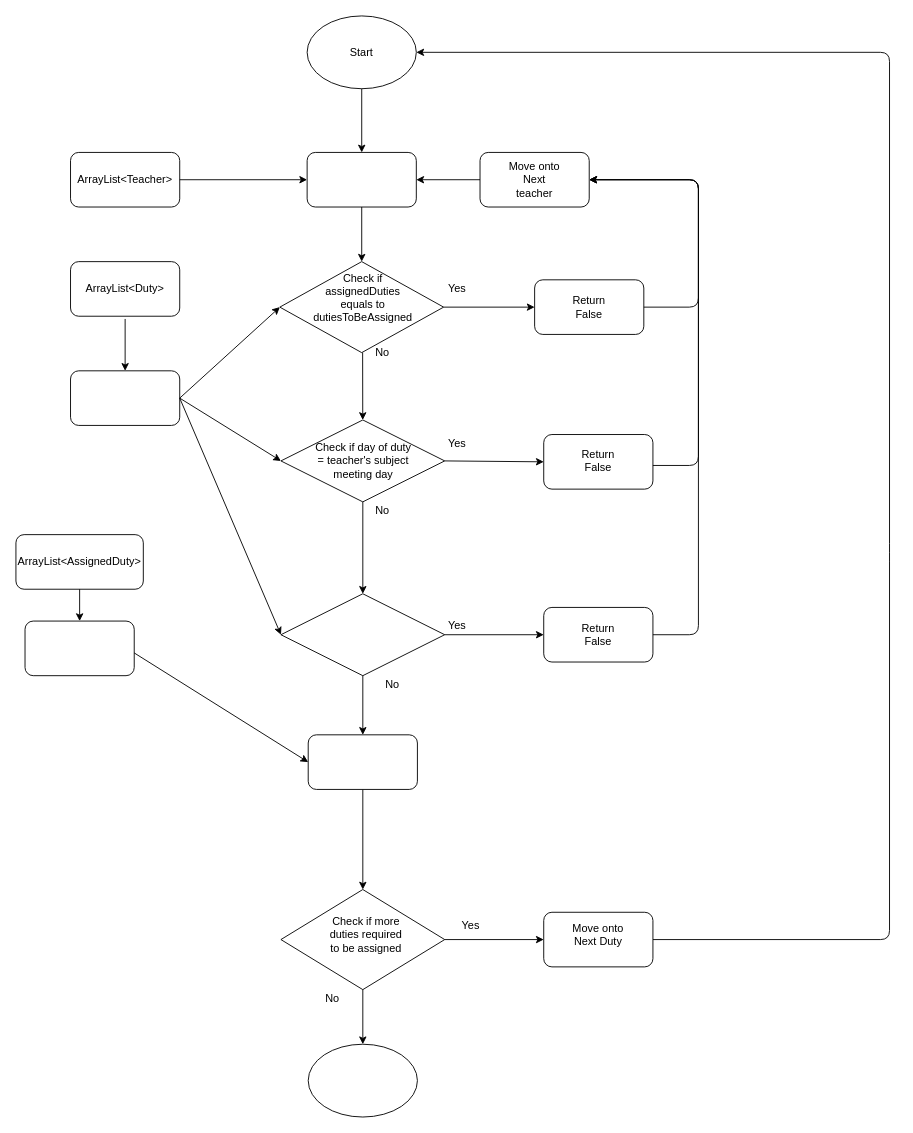
Some shapes in this 913 by 1133 pixel diagram are drawn without their labels. The shapes that lost their labels are listed below. From the top down, each one's centre as x and y in pixels, then its label:
(361,179): Teacher to set
(125,397): Duty
(79,648): AssignedDuty
(362,634): Check if Teacher has lesson Before of after duty
(362,761): Assign Duty To Teacher
(362,1080): End
